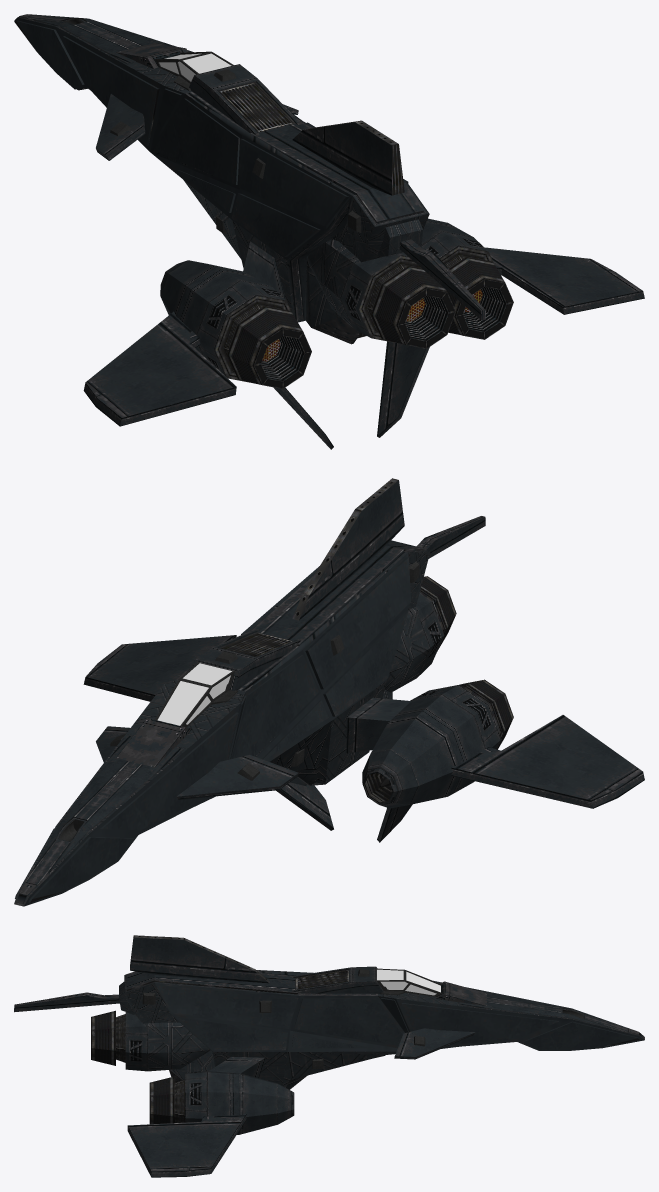
File: 30-TS-2 Serpent.fbx
3 renders of one model, top to bottom at view 1: azimuth 30°, elevation 25°; view 2: azimuth 150°, elevation 25°; view 3: azimuth 270°, elevation 25°, orthographic. The views are drawn at different scales.
Parts seen in each view (by area): view 1: Serpent_hull, Serpent_metal, Serpent_window, Serpent_grill; view 2: Serpent_hull, Serpent_metal, Serpent_window; view 3: Serpent_hull, Serpent_metal, Serpent_window.
Boxes of the visible parts, x1=… form: Serpent_hull: x1=14, y1=14, x2=644, y2=449; Serpent_metal: x1=62, y1=19, x2=361, y2=233; Serpent_window: x1=159, y1=53, x2=231, y2=81; Serpent_grill: x1=262, y1=289, x2=482, y2=361; Serpent_hull: x1=14, y1=478, x2=644, y2=906; Serpent_metal: x1=59, y1=561, x2=419, y2=841; Serpent_window: x1=157, y1=663, x2=231, y2=725; Serpent_hull: x1=14, y1=935, x2=644, y2=1177; Serpent_metal: x1=142, y1=968, x2=583, y2=1068; Serpent_window: x1=377, y1=969, x2=440, y2=995.
Bounding box in the file's own units: 239 × 143 × 366.
4 materials, 4 textured.
